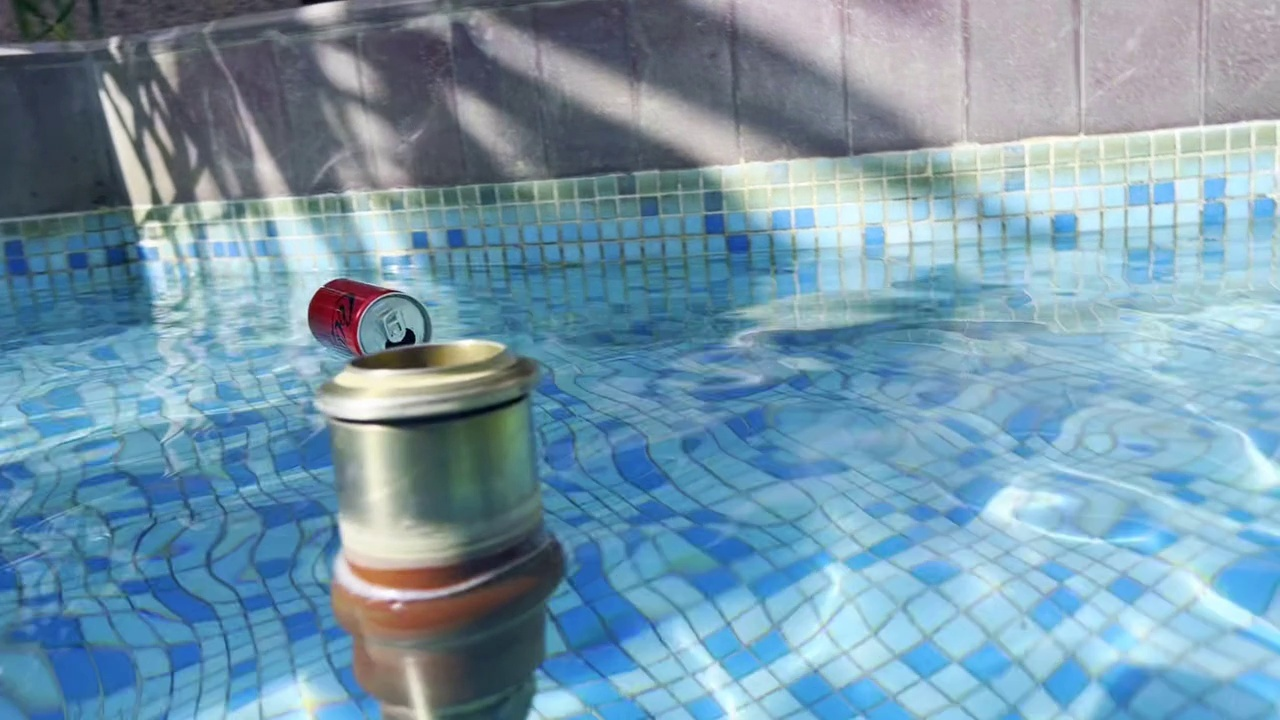debris: (302, 269, 435, 376)
